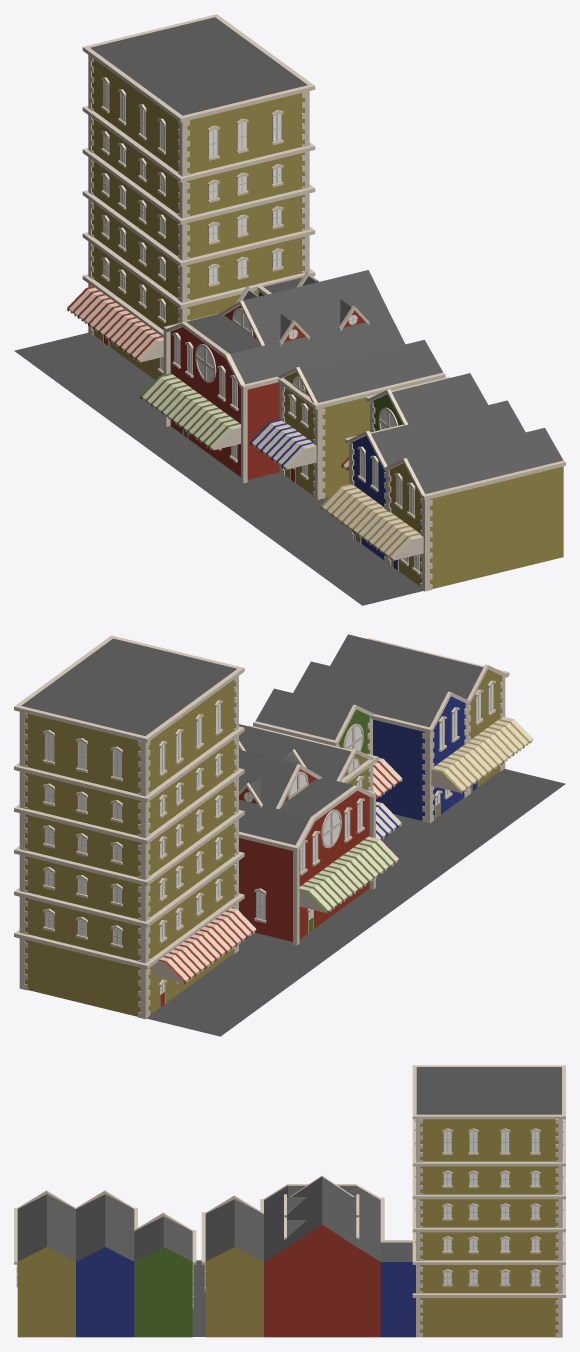
File: 3x1_Buildings3.col.glb
The picture shows the model from 3 angles, top to bottom: view 1: azimuth 30°, elevation 25°; view 2: azimuth 150°, elevation 25°; view 3: azimuth 270°, elevation 25°; orthographic projection. The views are drawn at different scales.
Visible parts, largest first — view 1: 3x1_Buildings3.col; view 2: 3x1_Buildings3.col; view 3: 3x1_Buildings3.col.
Boxes of the visible parts, x1,y1,x2,y2 form: 3x1_Buildings3.col: (14,14,565,605); 3x1_Buildings3.col: (14,634,565,1036); 3x1_Buildings3.col: (14,1065,565,1337).
Bounding box in the file's own units: 20.45 × 27.07 × 60.87.
